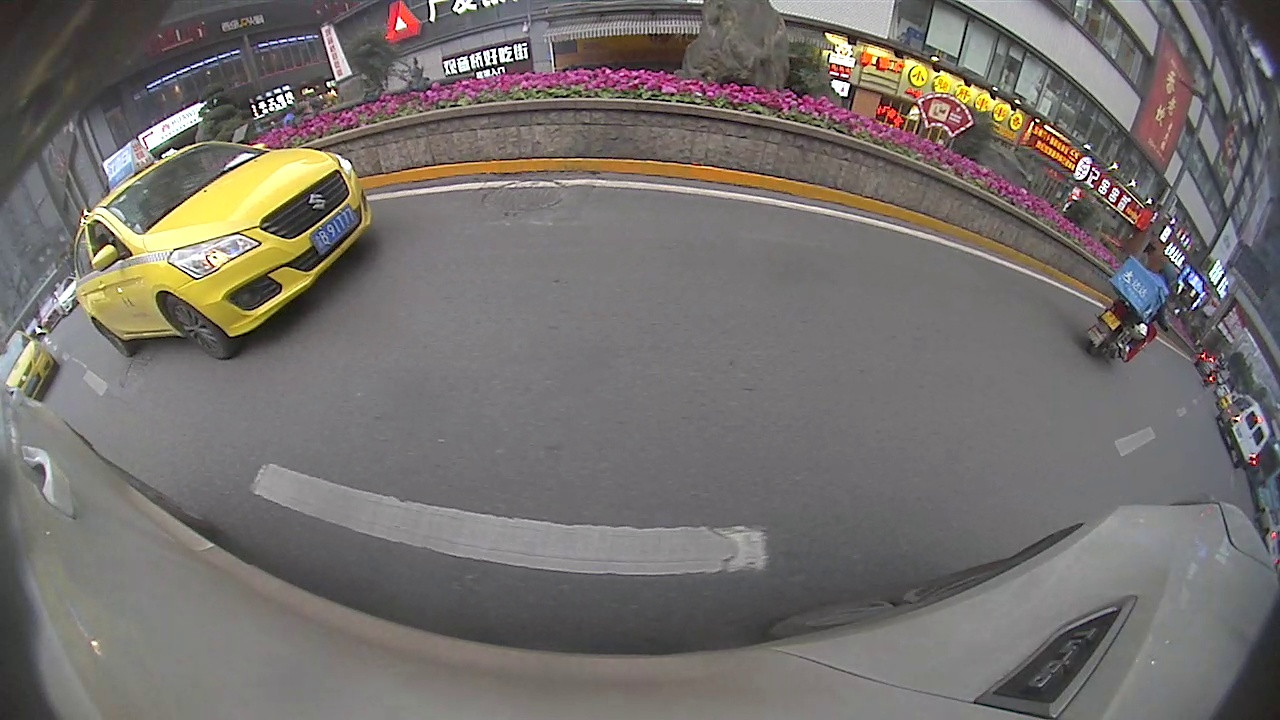car: (73, 140, 371, 361), (1213, 394, 1273, 469), (3, 328, 57, 400)
front: (164, 294, 234, 361)
rear: (91, 319, 132, 360)
rider: (1084, 256, 1182, 367)
